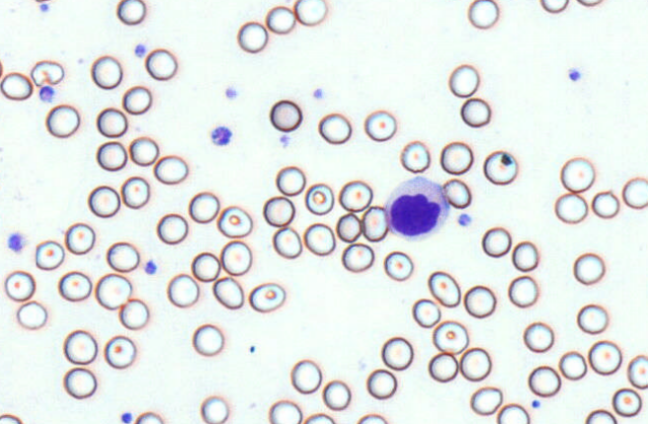MONO: (384, 172, 450, 244)
PLT: (209, 123, 234, 145), (6, 231, 27, 253), (225, 83, 241, 101), (143, 258, 159, 275), (37, 87, 53, 103), (456, 211, 473, 226), (567, 67, 583, 81), (120, 410, 135, 424), (312, 86, 326, 100), (37, 2, 52, 15), (133, 42, 145, 57)
RBC: (95, 273, 132, 309), (560, 156, 595, 192), (45, 103, 80, 138), (432, 320, 468, 354), (63, 329, 97, 364), (588, 340, 622, 375), (483, 150, 517, 185), (428, 270, 460, 307), (217, 205, 252, 238), (290, 358, 322, 394), (338, 179, 372, 212), (463, 284, 496, 318), (220, 240, 252, 275), (104, 334, 136, 369), (90, 54, 122, 89), (248, 282, 285, 312), (440, 141, 473, 174), (269, 99, 302, 132), (63, 367, 97, 399), (167, 273, 199, 307), (318, 112, 352, 144), (459, 347, 491, 381), (381, 336, 413, 370), (262, 195, 295, 227), (212, 276, 244, 309), (303, 222, 335, 255), (528, 365, 561, 397), (192, 323, 224, 356), (87, 185, 120, 217), (573, 252, 605, 285), (144, 48, 177, 80), (153, 154, 188, 184), (361, 205, 389, 242), (364, 109, 396, 141), (236, 21, 268, 53), (106, 241, 139, 272), (554, 192, 587, 223), (58, 271, 92, 301), (449, 63, 479, 97), (188, 191, 219, 223), (64, 222, 95, 254), (156, 213, 188, 244), (576, 303, 608, 334), (341, 242, 374, 272), (304, 182, 334, 215), (400, 140, 430, 173), (523, 321, 554, 352), (366, 368, 397, 399), (118, 298, 149, 329), (4, 270, 35, 301), (272, 226, 302, 258), (508, 275, 538, 307), (0, 71, 33, 100), (469, 386, 502, 415), (460, 97, 491, 127), (383, 250, 413, 281), (428, 351, 458, 382), (481, 226, 511, 257), (96, 141, 127, 171), (96, 107, 127, 137), (275, 165, 305, 196), (120, 176, 149, 208), (612, 387, 642, 417), (16, 300, 47, 329), (322, 379, 351, 410), (467, 0, 498, 29), (442, 178, 471, 208), (558, 350, 587, 380), (411, 298, 440, 328), (191, 251, 220, 281), (129, 136, 158, 166), (265, 5, 295, 34), (35, 240, 64, 270), (122, 85, 152, 114), (293, 0, 327, 25), (511, 240, 538, 271), (622, 176, 647, 209), (268, 399, 302, 423), (591, 190, 620, 218), (200, 395, 228, 423), (116, 0, 146, 25), (627, 354, 647, 389), (496, 403, 529, 423), (585, 409, 617, 423), (540, 0, 569, 13), (133, 411, 163, 423), (303, 412, 335, 423), (356, 413, 387, 423), (0, 413, 23, 423), (576, 0, 603, 7), (33, 0, 56, 3), (0, 56, 3, 78)
Schistocyte: (29, 59, 65, 86)
